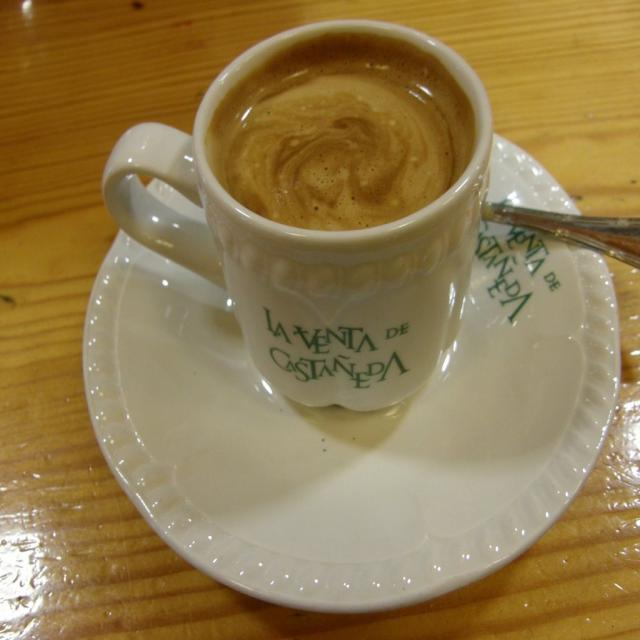Coffee: (204, 29, 474, 233)
